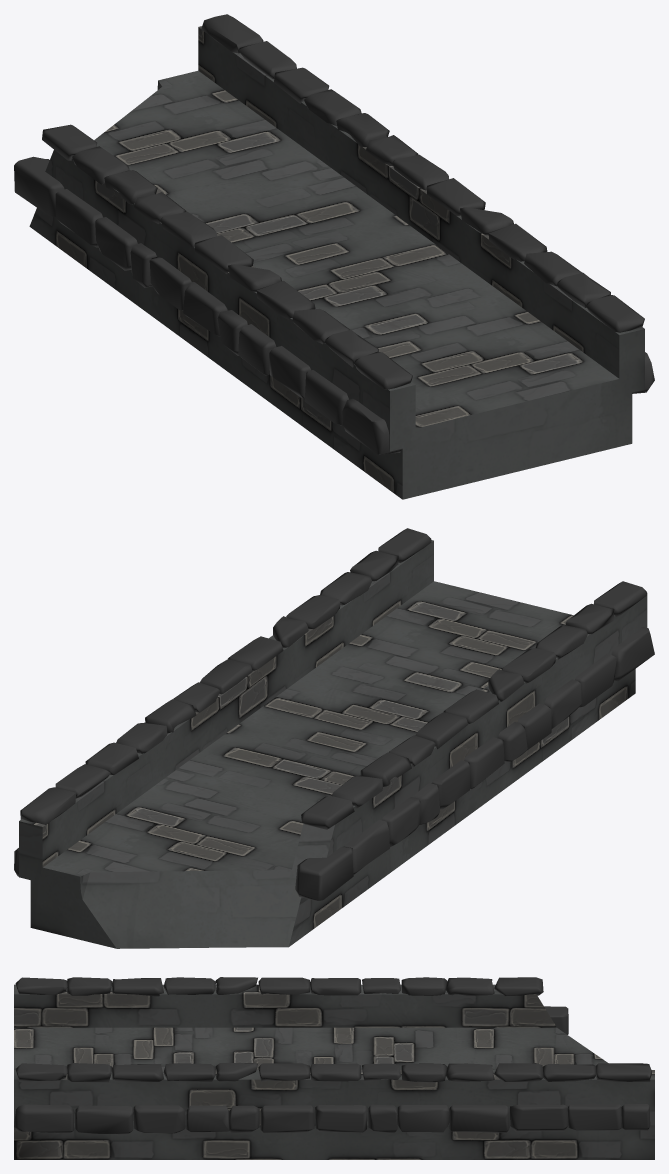
Rendered from SM_Bridge_05.FBX.
3 views of the same model, one above another, from view 1: azimuth 30°, elevation 25°; view 2: azimuth 150°, elevation 25°; view 3: azimuth 270°, elevation 25° (orthographic). The views are drawn at different scales.
Parts seen in each view (by area): view 1: SM_Bridge_05_LOD0; view 2: SM_Bridge_05_LOD0; view 3: SM_Bridge_05_LOD0.
Boxes of the visible parts, x1=… form: SM_Bridge_05_LOD0: x1=14, y1=14, x2=654, y2=499; SM_Bridge_05_LOD0: x1=14, y1=528, x2=654, y2=948; SM_Bridge_05_LOD0: x1=14, y1=977, x2=654, y2=1159.
Bounding box in the file's own units: 548 × 1411 × 228.
